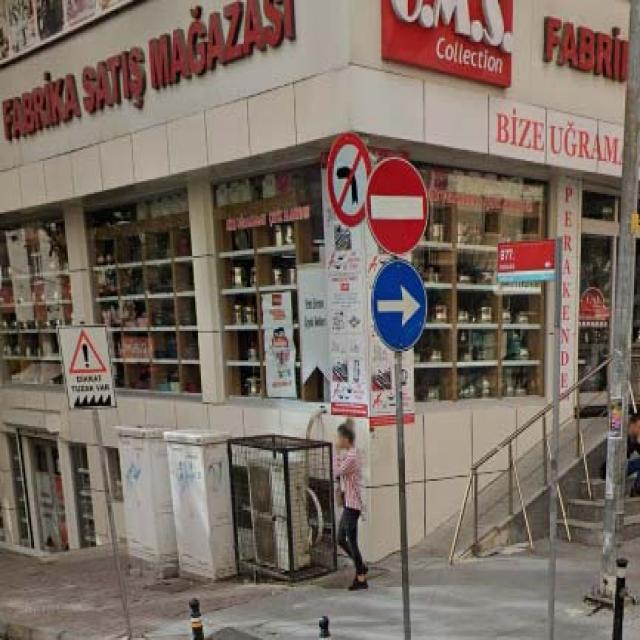girisyok: (368, 157, 429, 256)
sag: (370, 260, 430, 351)
soladonulmez: (327, 133, 368, 225)
